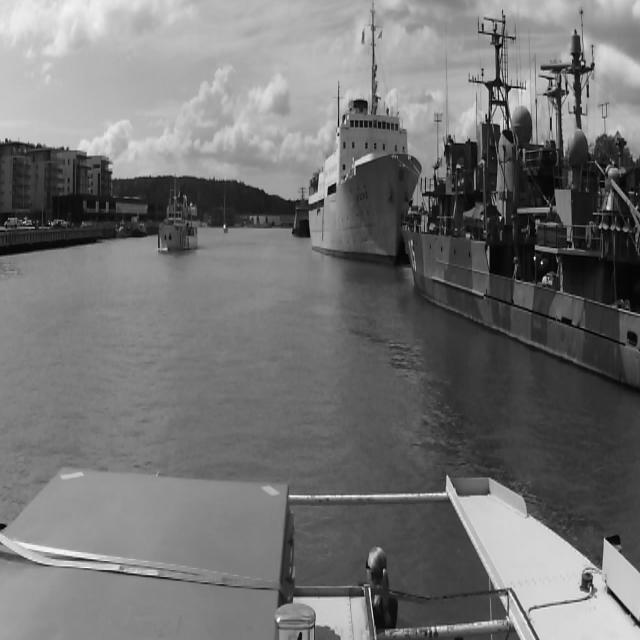ship: (403, 4, 639, 397), (309, 0, 405, 264), (156, 172, 200, 256), (290, 185, 310, 237), (222, 181, 228, 234)
